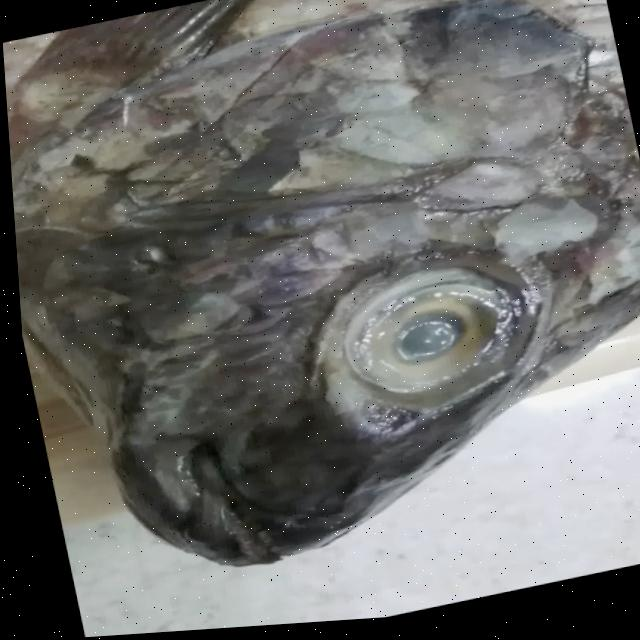Non-Fresh: (313, 254, 520, 425)
